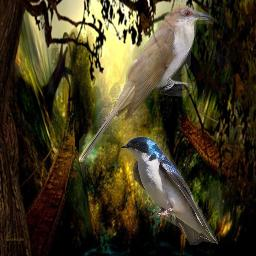Cuckoo: (79, 5, 214, 162)
Swallow: (120, 136, 218, 245)
